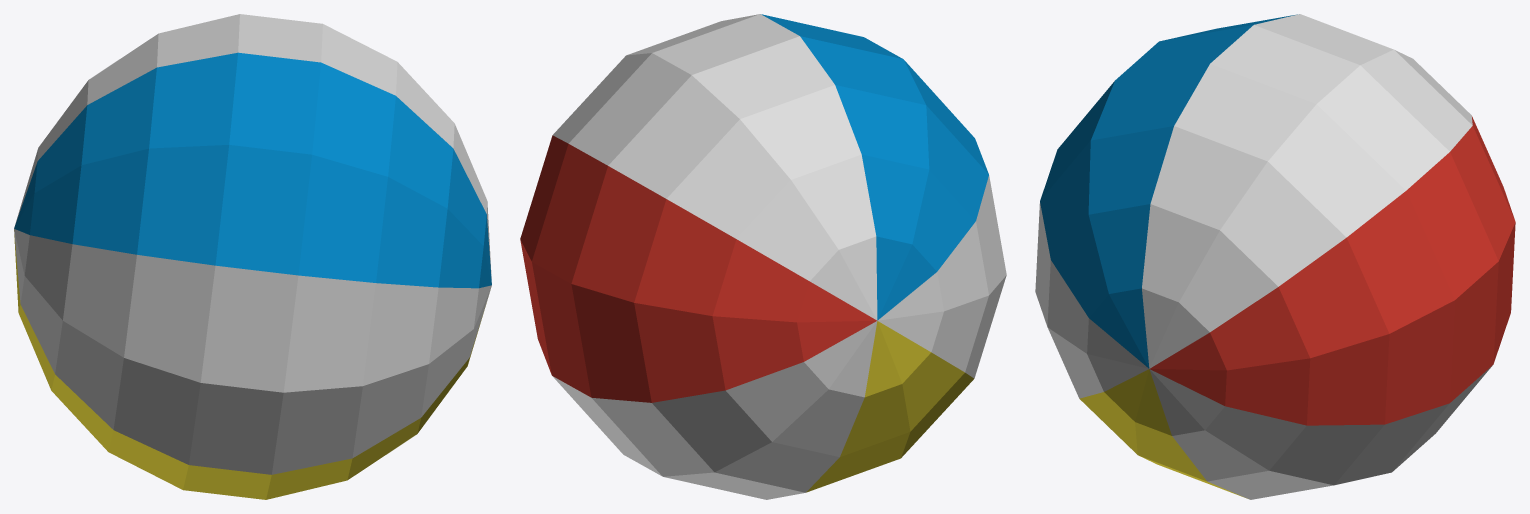
Rendered from beach_ball_edited.glb.
3 renders of one model, left to right at view 1: azimuth 30°, elevation 25°; view 2: azimuth 150°, elevation 25°; view 3: azimuth 270°, elevation 25°, orthographic.
Visible parts, largest first — view 1: node_MeshObject-1695992832-PolyPaper21; view 2: node_MeshObject-1695992832-PolyPaper21; view 3: node_MeshObject-1695992832-PolyPaper21.
Boxes of the visible parts, x1,y1,x2,y2 form: node_MeshObject-1695992832-PolyPaper21: [14, 14, 491, 499]; node_MeshObject-1695992832-PolyPaper21: [520, 14, 1006, 499]; node_MeshObject-1695992832-PolyPaper21: [1035, 14, 1515, 499].
Bounding box in the file's own units: 0.5016 × 0.5047 × 0.5003.
